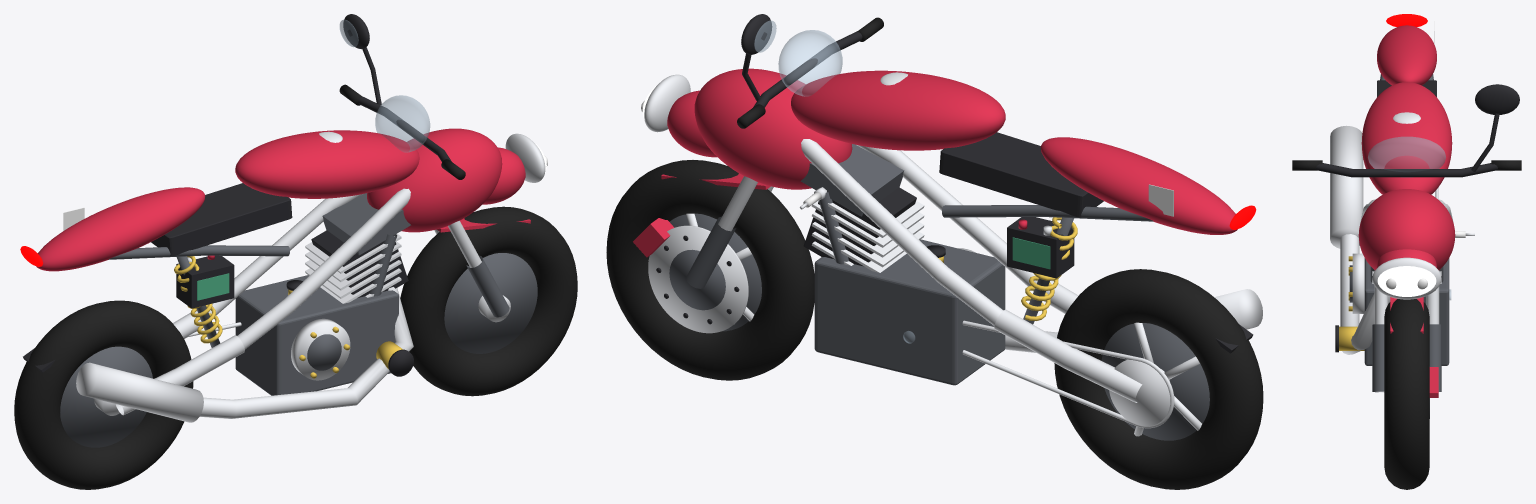
The model's file is moto.glb.
3 views of the same model, side by side, from view 1: azimuth 30°, elevation 25°; view 2: azimuth 150°, elevation 25°; view 3: azimuth 270°, elevation 25° (orthographic). The views are drawn at different scales.
Visible parts, largest first — view 1: rueda_delantera_neumatico, rueda_trasera_neumatico, carter, tanque, carenado_frontal, cola, rueda_delantera_disco_llanta, asiento, escape, rueda_trasera_disco_llanta, silenciador, chasis-1 (+18 smaller); view 2: rueda_trasera_neumatico, rueda_delantera_neumatico, carter, tanque, carenado_frontal, cola, asiento, disco_freno, rueda_trasera_disco_llanta, chasis1, basculante1, parabrisas (+23 smaller); view 3: rueda_delantera_neumatico, tanque, carenado_frontal, silenciador, cola, parabrisas, escape, manubrio, carter, faro_lente, espejo_carcasa, faro_marco (+14 smaller).
Part boxes in pixels (<box>): rueda_delantera_neumatico: <box>400,206,577,396</box>; rueda_trasera_neumatico: <box>14,300,193,489</box>; carter: <box>235,275,398,395</box>; tanque: <box>235,130,419,198</box>; carenado_frontal: <box>367,128,502,232</box>; cola: <box>36,187,205,271</box>; rueda_delantera_disco_llanta: <box>444,253,537,353</box>; asiento: <box>151,183,292,256</box>; escape: <box>199,287,413,418</box>; rueda_trasera_disco_llanta: <box>60,346,152,447</box>; silenciador: <box>76,362,203,422</box>; chasis-1: <box>237,188,410,349</box>; rueda_trasera_neumatico: <box>1054,269,1263,489</box>; rueda_delantera_neumatico: <box>606,160,814,380</box>; carter: <box>814,239,1005,385</box>; tanque: <box>791,70,1005,150</box>; carenado_frontal: <box>694,68,852,189</box>; cola: <box>1040,137,1237,234</box>; asiento: <box>939,132,1103,217</box>; disco_freno: <box>648,225,748,333</box>; rueda_trasera_disco_llanta: <box>1101,323,1209,440</box>; chasis1: <box>801,139,1003,326</box>; basculante1: <box>994,309,1142,402</box>; parabrisas: <box>778,30,842,96</box>; rueda_delantera_neumatico: <box>1384,299,1429,489</box>; tanque: <box>1361,82,1452,194</box>; carenado_frontal: <box>1358,189,1455,270</box>; silenciador: <box>1330,125,1363,248</box>; cola: <box>1377,25,1436,85</box>; parabrisas: <box>1368,136,1445,171</box>; escape: <box>1340,234,1390,354</box>; manubrio: <box>1316,163,1497,177</box>; carter: <box>1364,258,1449,365</box>; faro_lente: <box>1377,266,1436,296</box>; espejo_carcasa: <box>1475,84,1519,114</box>; faro_marco: <box>1372,257,1441,299</box>.
Size of the model in its own units: 2.09 by 1.3 by 0.76.
